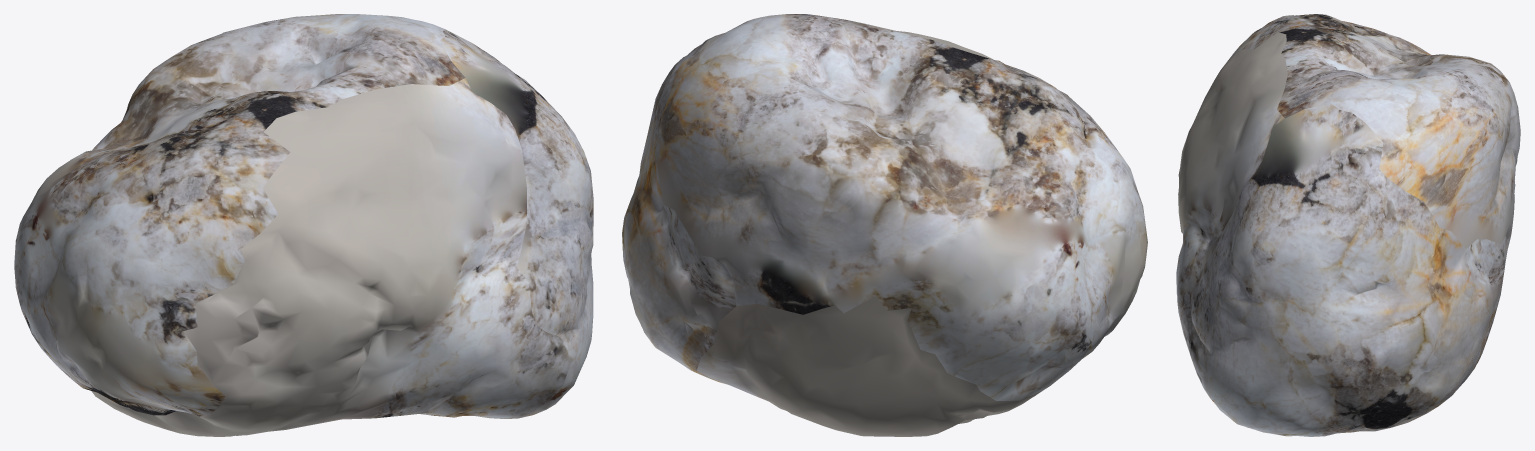
File: granite.gltf
3 renders of one model, left to right at view 1: azimuth 30°, elevation 25°; view 2: azimuth 150°, elevation 25°; view 3: azimuth 270°, elevation 25°, orthographic. The views are drawn at different scales.
Visible parts, largest first — view 1: Object_2; view 2: Object_2; view 3: Object_2.
Part boxes in pixels (<box>): Object_2: <box>14,14,593,436</box>; Object_2: <box>622,14,1147,436</box>; Object_2: <box>1176,14,1520,436</box>.
Bounding box in the file's own units: 0.0989 × 0.069 × 0.0665.
1 material, 1 textured.
